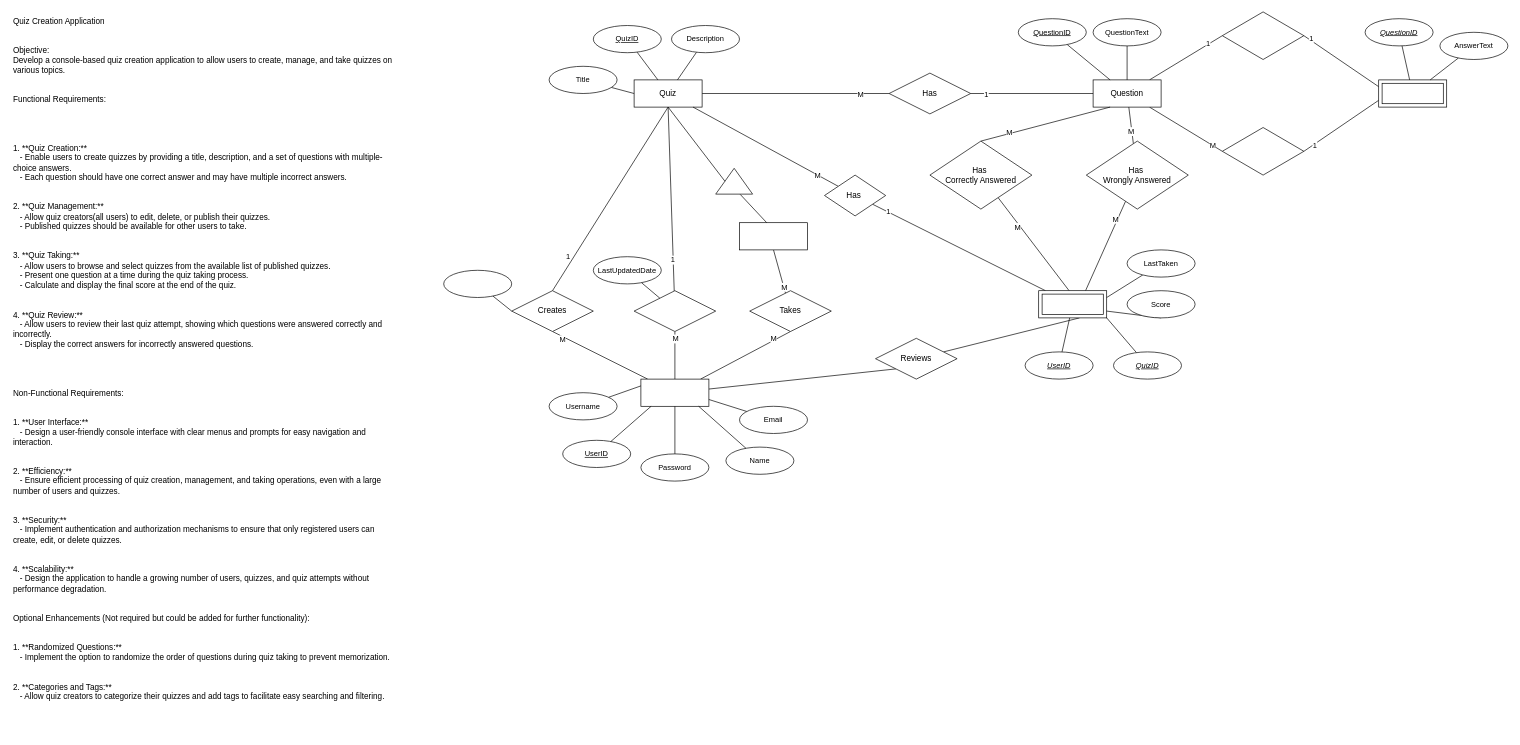
Image size: 1520x745. Some labels were removed from this diagram. The shapes that lost their labels are listed below. From the top down, each one's box as (x1, y1, x2, y2) in pixels, then its label:
(1222, 11, 1304, 60): Has correct answer
(1378, 79, 1447, 107): Answer
(1222, 127, 1304, 175): Has Wrong Answer
(715, 168, 753, 194): ISA
(739, 222, 808, 250): Published Quiz
(443, 270, 512, 298): CreatedDate
(1038, 290, 1107, 318): QuizAttempt
(633, 290, 716, 332): Manages
(640, 378, 709, 406): User
